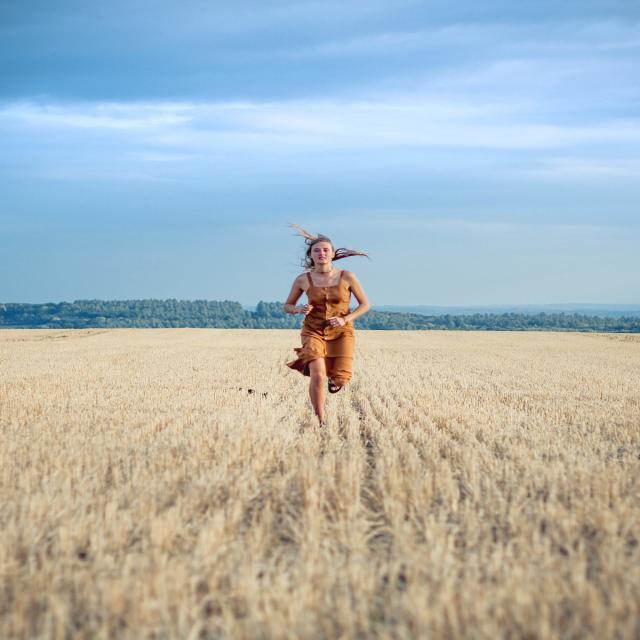adult: (283, 236, 372, 427)
